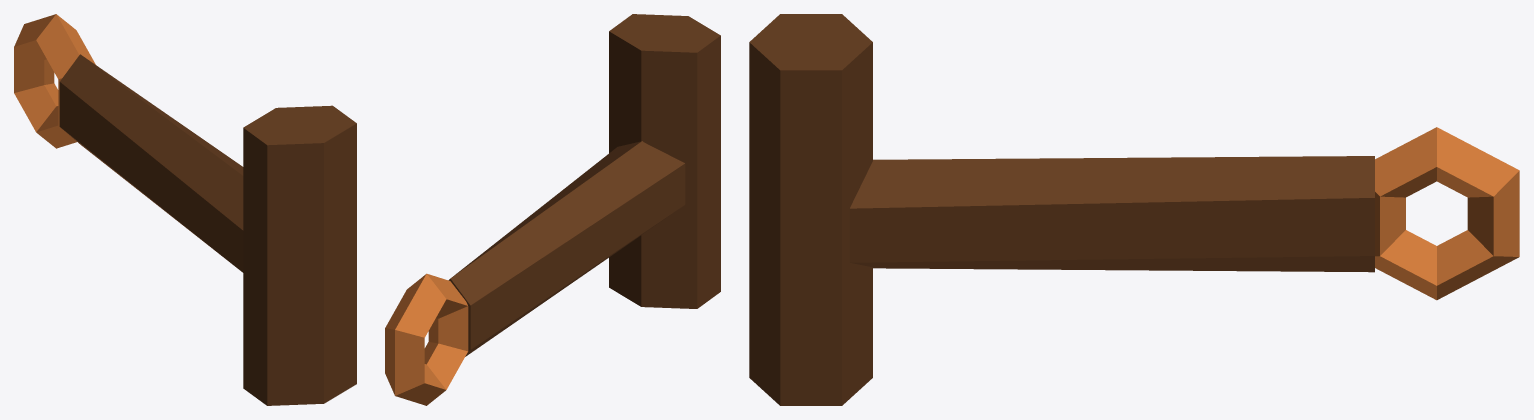
File: RegularHilt.fbx
3 renders of one model, left to right at view 1: azimuth 30°, elevation 25°; view 2: azimuth 150°, elevation 25°; view 3: azimuth 270°, elevation 25°, orthographic. The views are drawn at different scales.
Parts seen in each view (by area): view 1: Hilt; view 2: Hilt; view 3: Hilt.
Boxes of the visible parts, box(x1,y1,x2,y2) form: Hilt: box(14, 14, 356, 405); Hilt: box(385, 14, 720, 405); Hilt: box(749, 14, 1519, 405).
Bounding box in the file's own units: 2.74 × 7.61 × 15.83.
